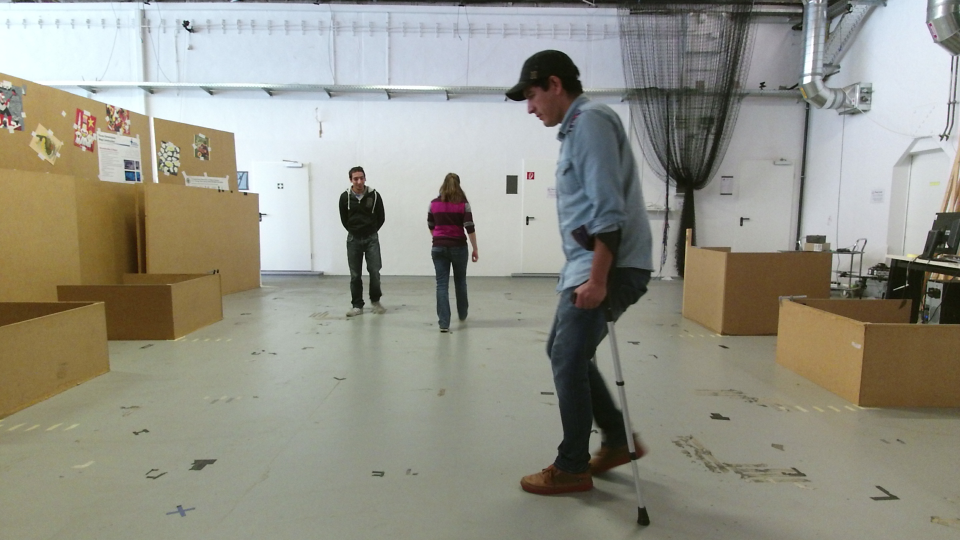crutches: (502, 45, 688, 536)
